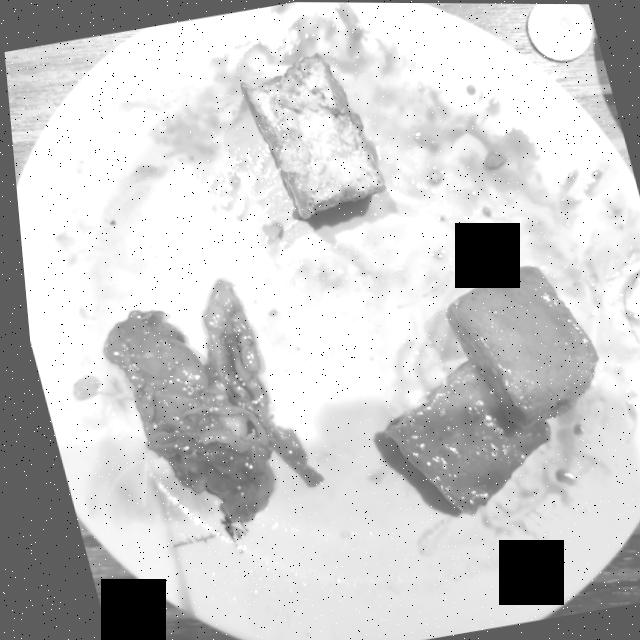Kabayaki sea bream fillet: (96, 279, 313, 522)
coin: (526, 3, 590, 60)
creamy tofu: (376, 264, 591, 514)
egg tofu: (238, 53, 381, 218)
